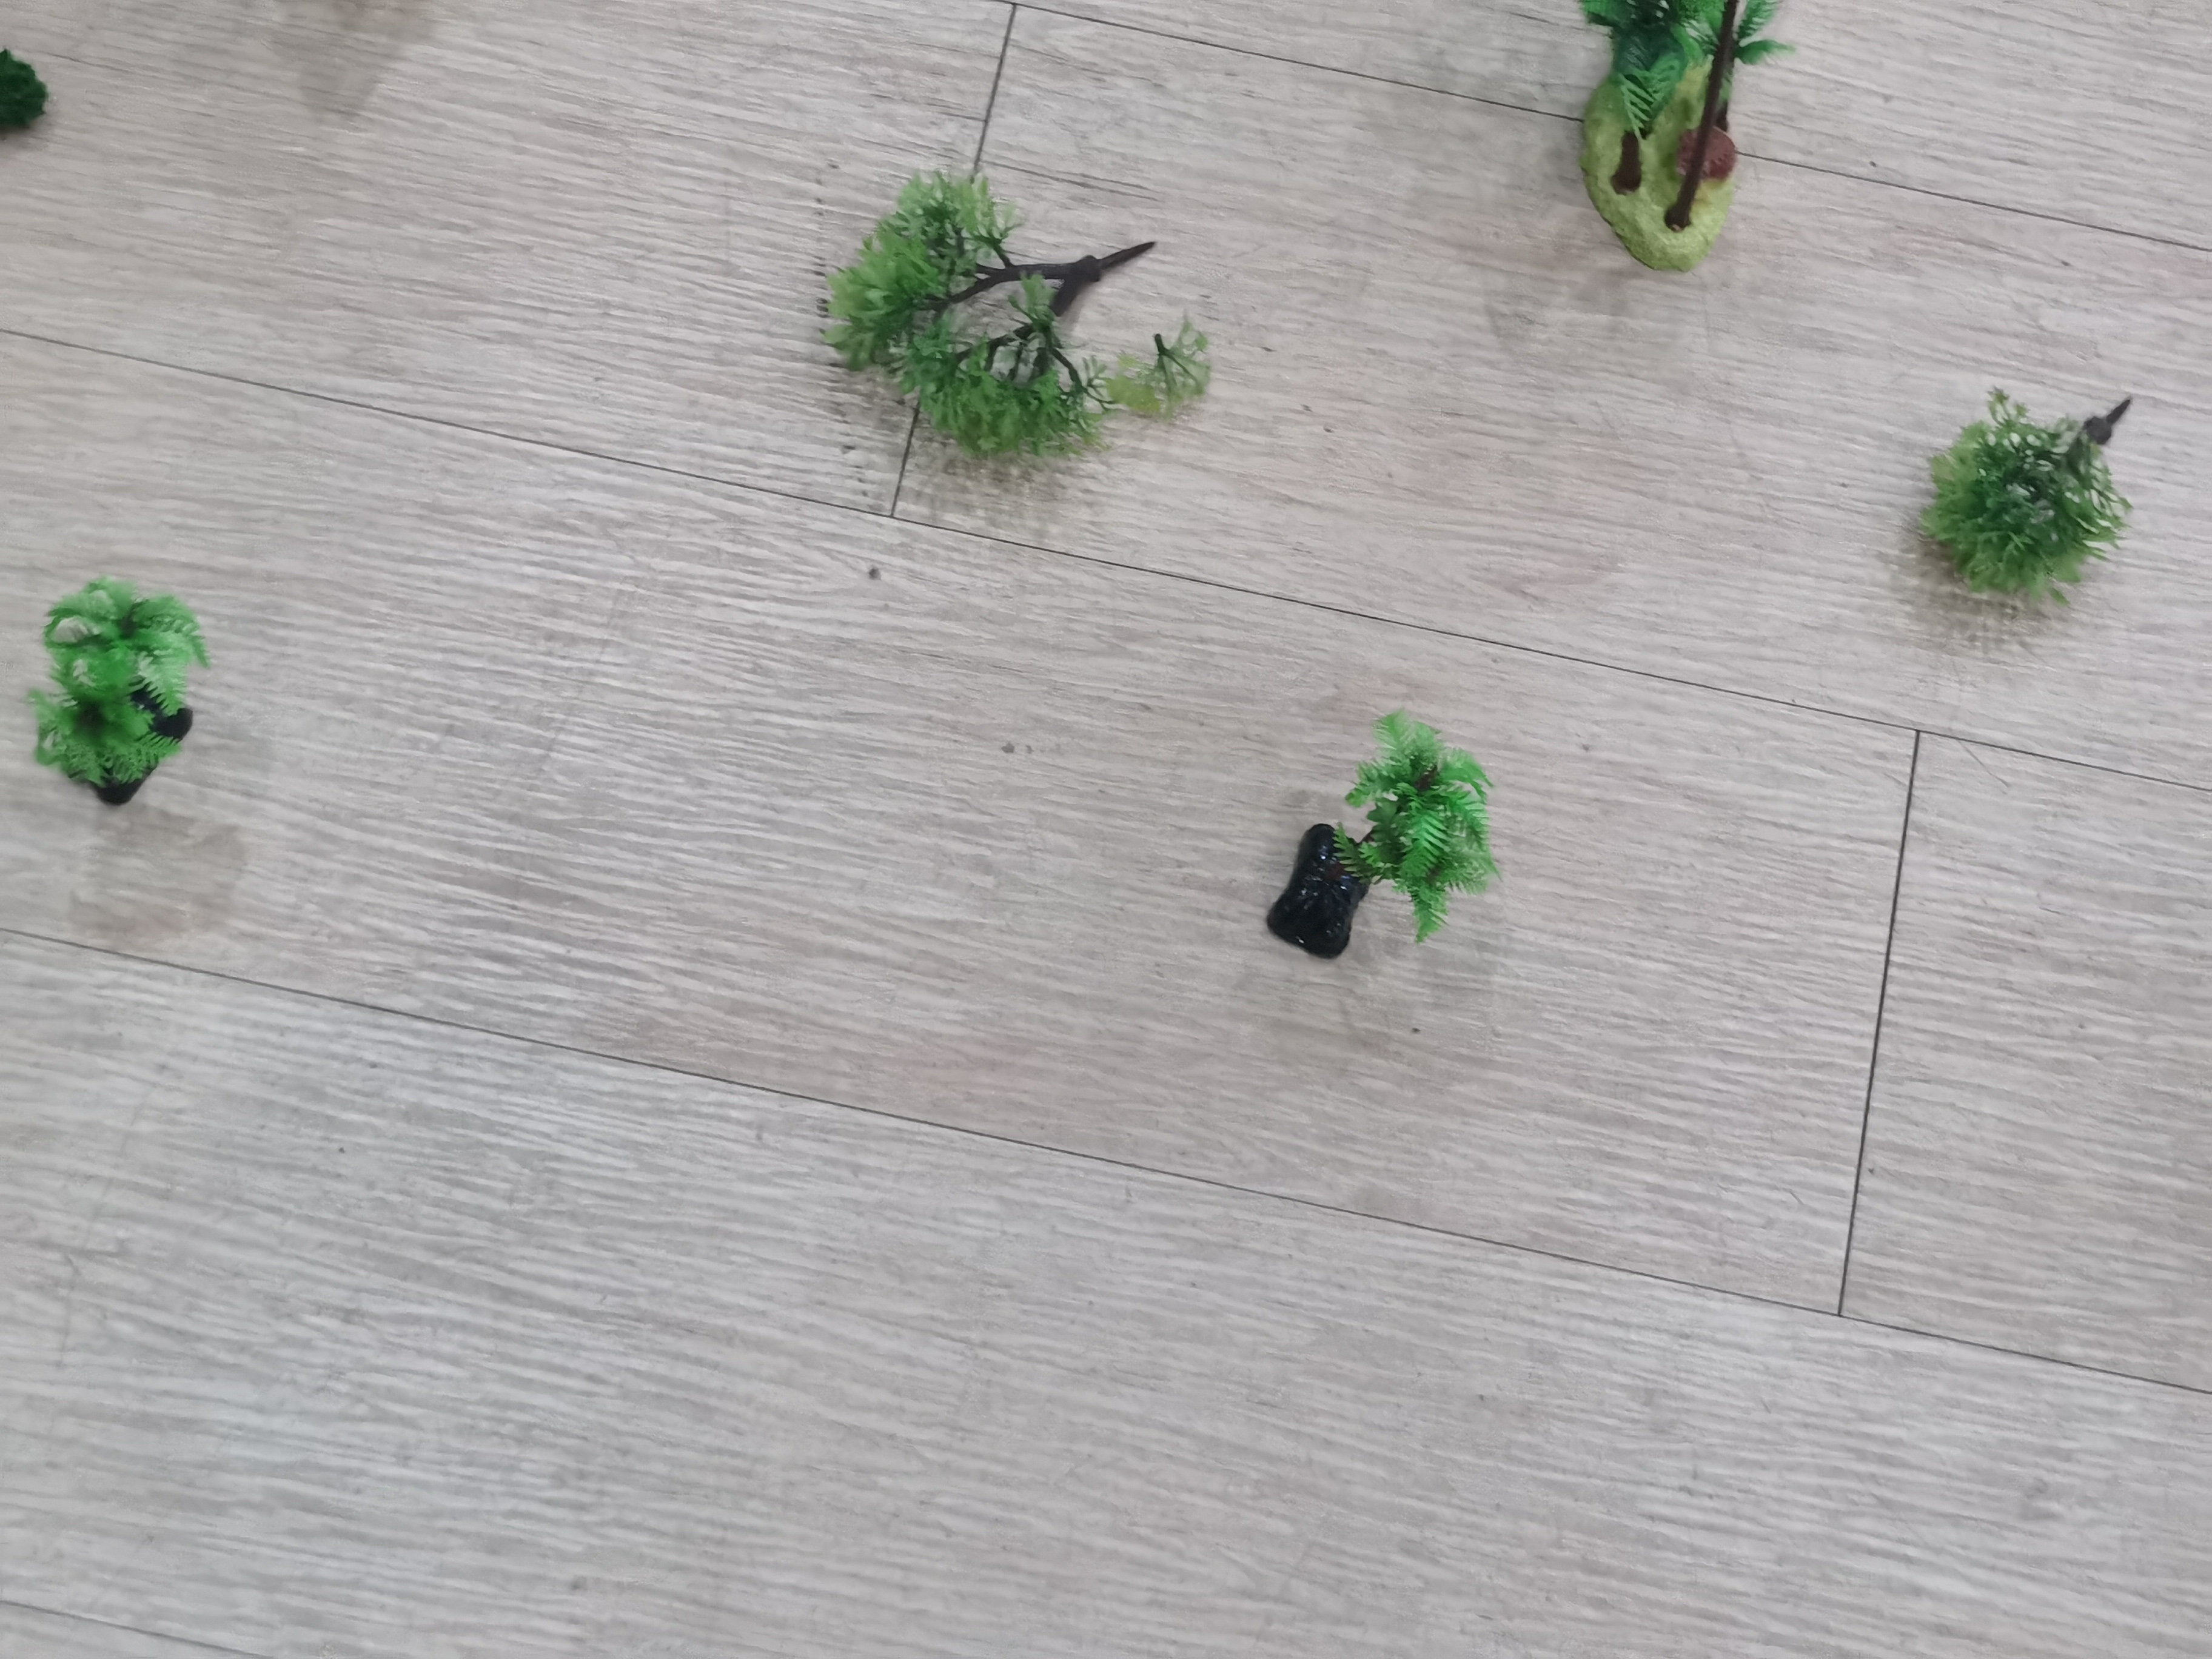corn: (1263, 716, 1500, 978), (1571, 10, 1794, 275), (24, 570, 211, 810)
